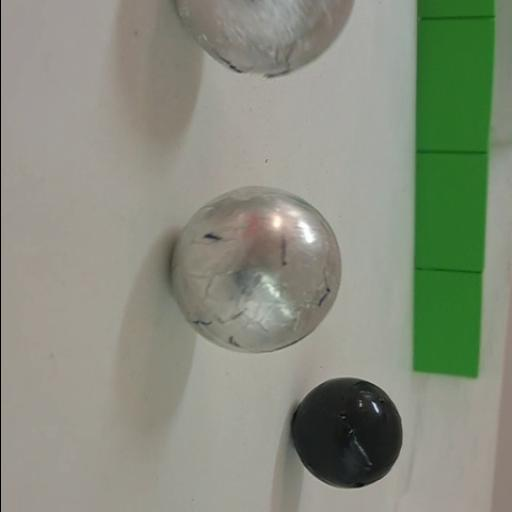alive: (168, 185, 341, 352), (170, 2, 356, 80)
dead: (290, 376, 402, 488)
